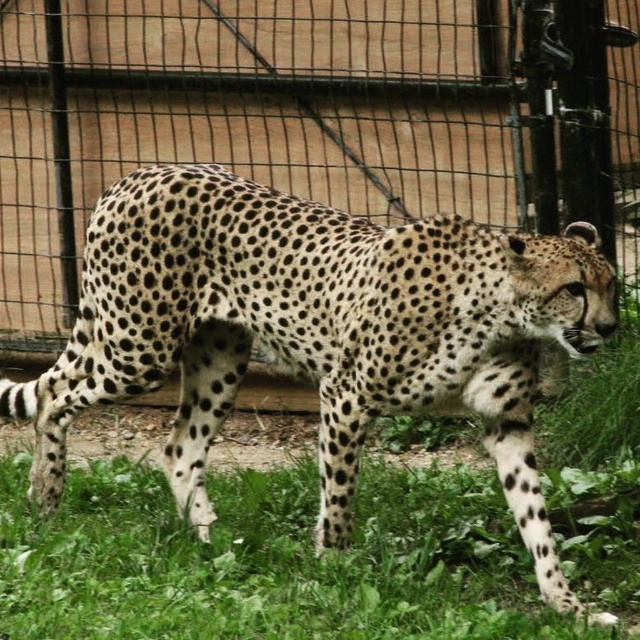Cheetah: (0, 158, 624, 633)
